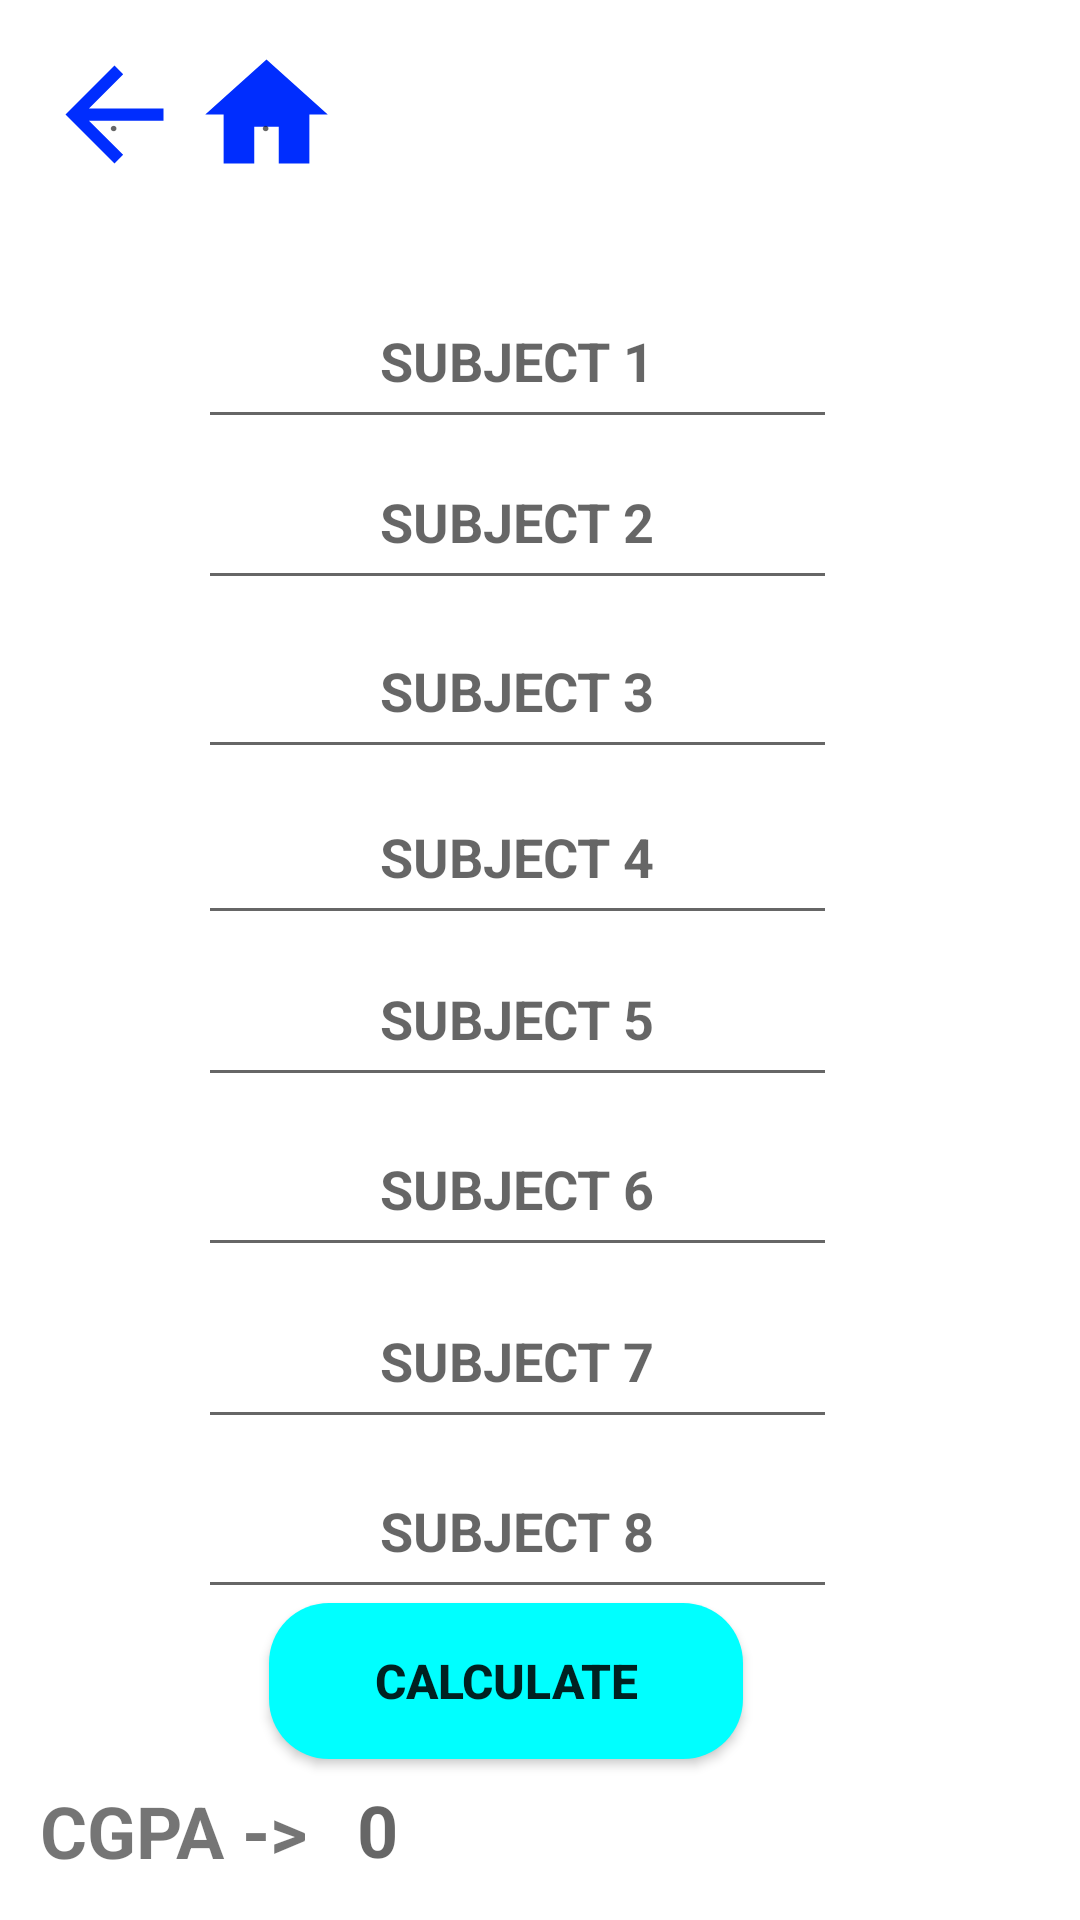

Locate icon controls on the screen. Image size 1080px x 1920px, boxes as [x1,y1,x2,y2].
arrow back: [65,65,164,164]
home: [205,59,328,164]
